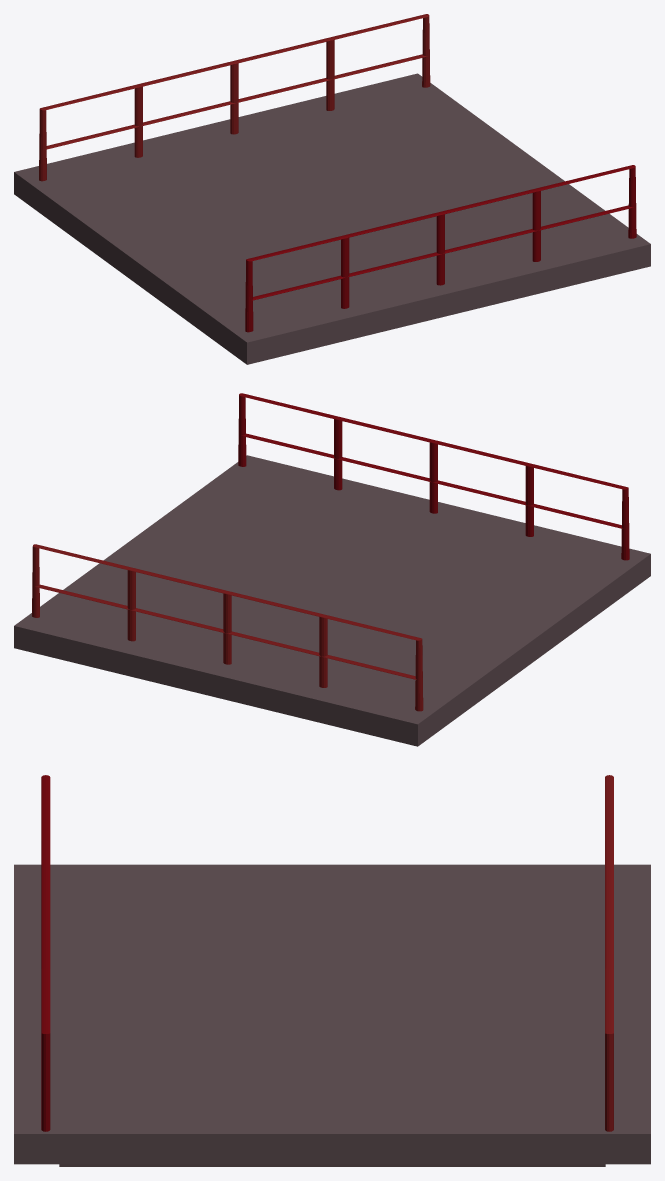
Rendered from plataformacolor.fbx.
3 renders of one model, top to bottom at view 1: azimuth 30°, elevation 25°; view 2: azimuth 150°, elevation 25°; view 3: azimuth 270°, elevation 25°, orthographic. The views are drawn at different scales.
Parts seen in each view (by area): view 1: Cube.001, Plane.002, Plane.001; view 2: Cube.001, Plane.001, Plane.002; view 3: Cube.001, Plane.001, Plane.002, Cube.002.
Boxes of the visible parts, <box> form: Cube.001: <box>14,73,650,364</box>; Plane.002: <box>39,14,430,181</box>; Plane.001: <box>245,165,636,332</box>; Cube.001: <box>14,455,650,746</box>; Plane.001: <box>238,393,629,560</box>; Plane.002: <box>32,544,423,711</box>; Cube.001: <box>14,864,650,1164</box>; Plane.001: <box>41,775,50,1131</box>; Plane.002: <box>605,775,613,1131</box>; Cube.002: <box>59,1164,605,1166</box>.
Size of the model in its own units: 3294 by 853 by 3294.
